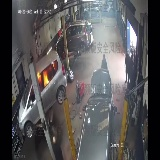fire: (36, 64, 59, 86)
